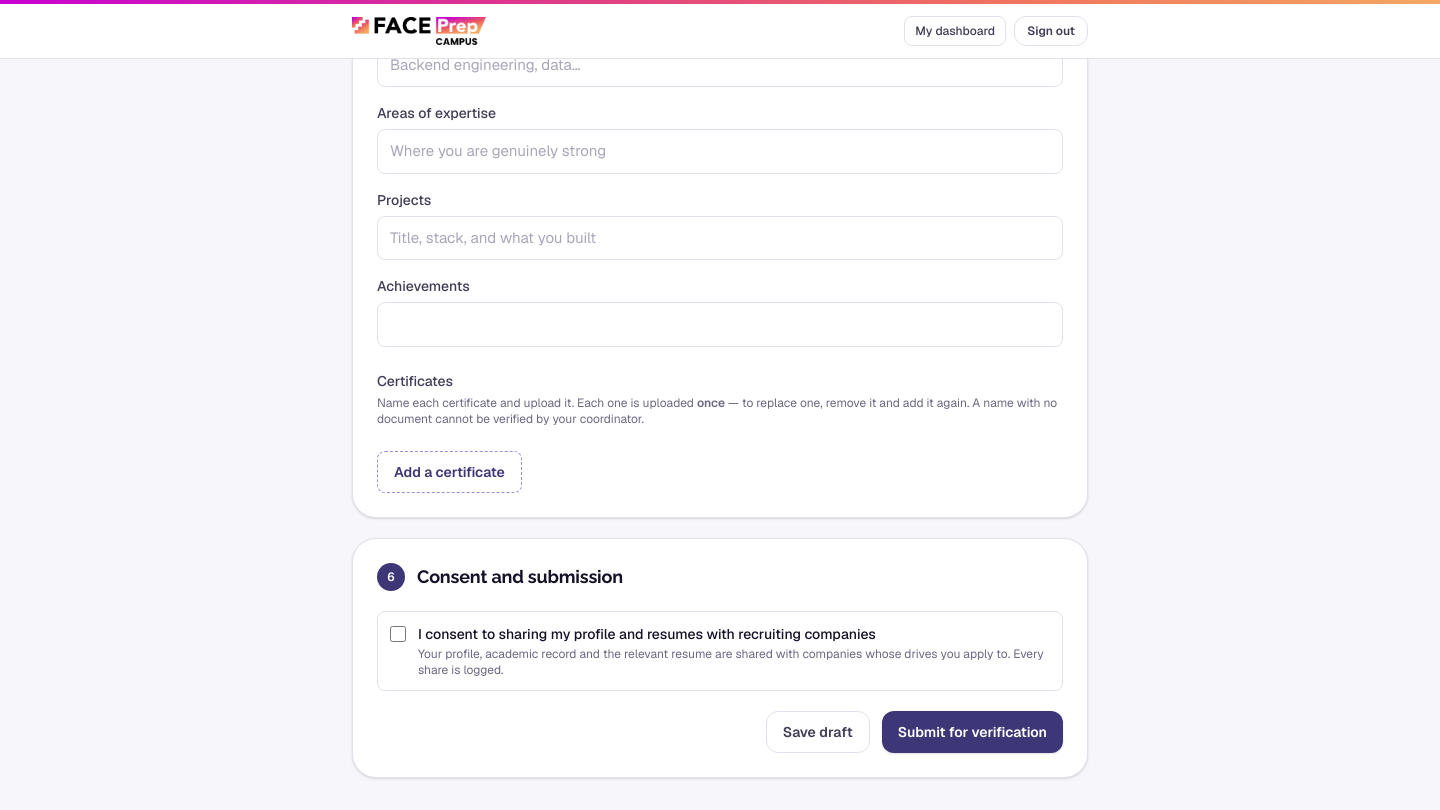
Test: SrfPage — saving a draft › says plainly when a draft could not be saved, rather than pretending
(page scrolled)
Click the button "Save draft".
click(818, 732)  # box [766,710,870,752]
(page scrolled)
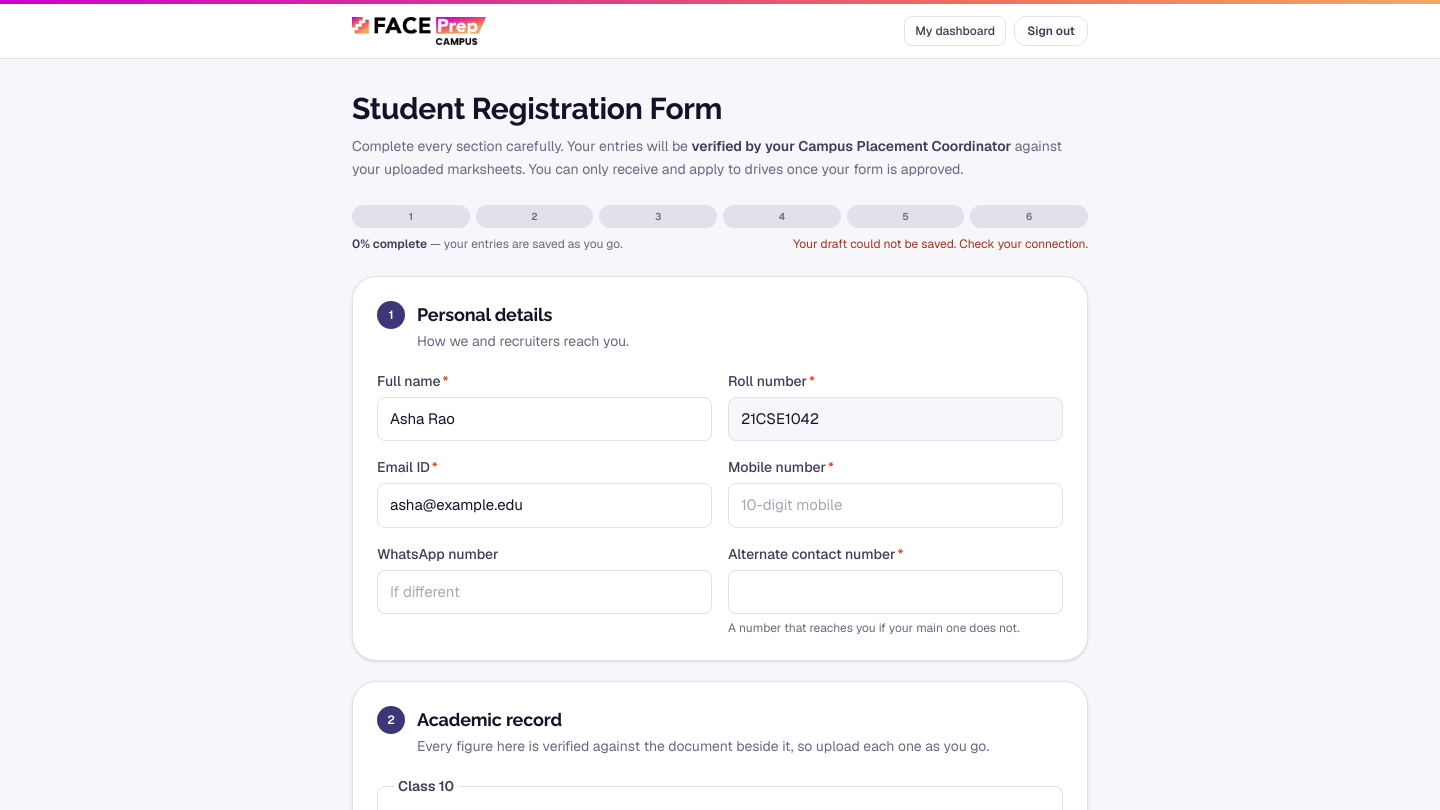
Expected: the text "Your draft could not be saved. Check your connection." is shown, [793,236,1088,252]
